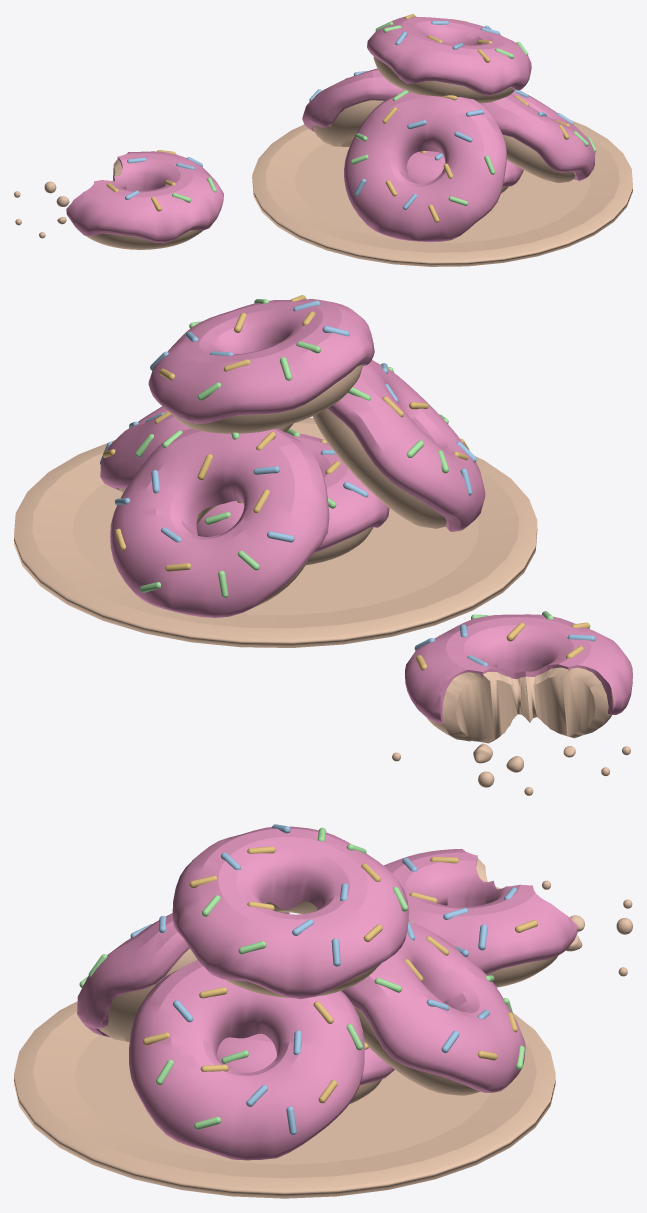
The model's file is DonutsEaten.fbx.
3 views of the same model, one above another, from view 1: azimuth 30°, elevation 25°; view 2: azimuth 150°, elevation 25°; view 3: azimuth 270°, elevation 25° (orthographic). The views are drawn at different scales.
Parts seen in each view (by area): view 1: Cylinder; view 2: Cylinder; view 3: Cylinder.
Part boxes in pixels (x1,y1,x2,y2): Cylinder: (14, 14, 632, 266); Cylinder: (14, 295, 632, 795); Cylinder: (14, 824, 632, 1198).
Bounding box in the file's own units: 517 × 189 × 390.
